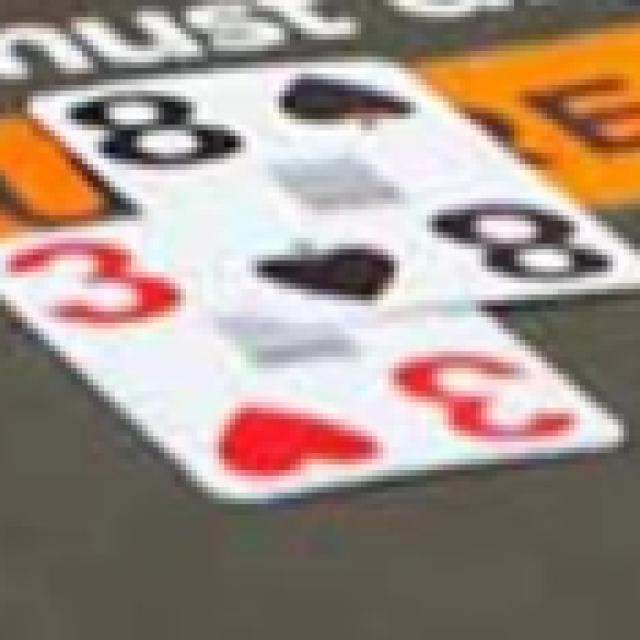Card-3: (1, 212, 625, 508)
Card-8: (27, 54, 640, 329)
